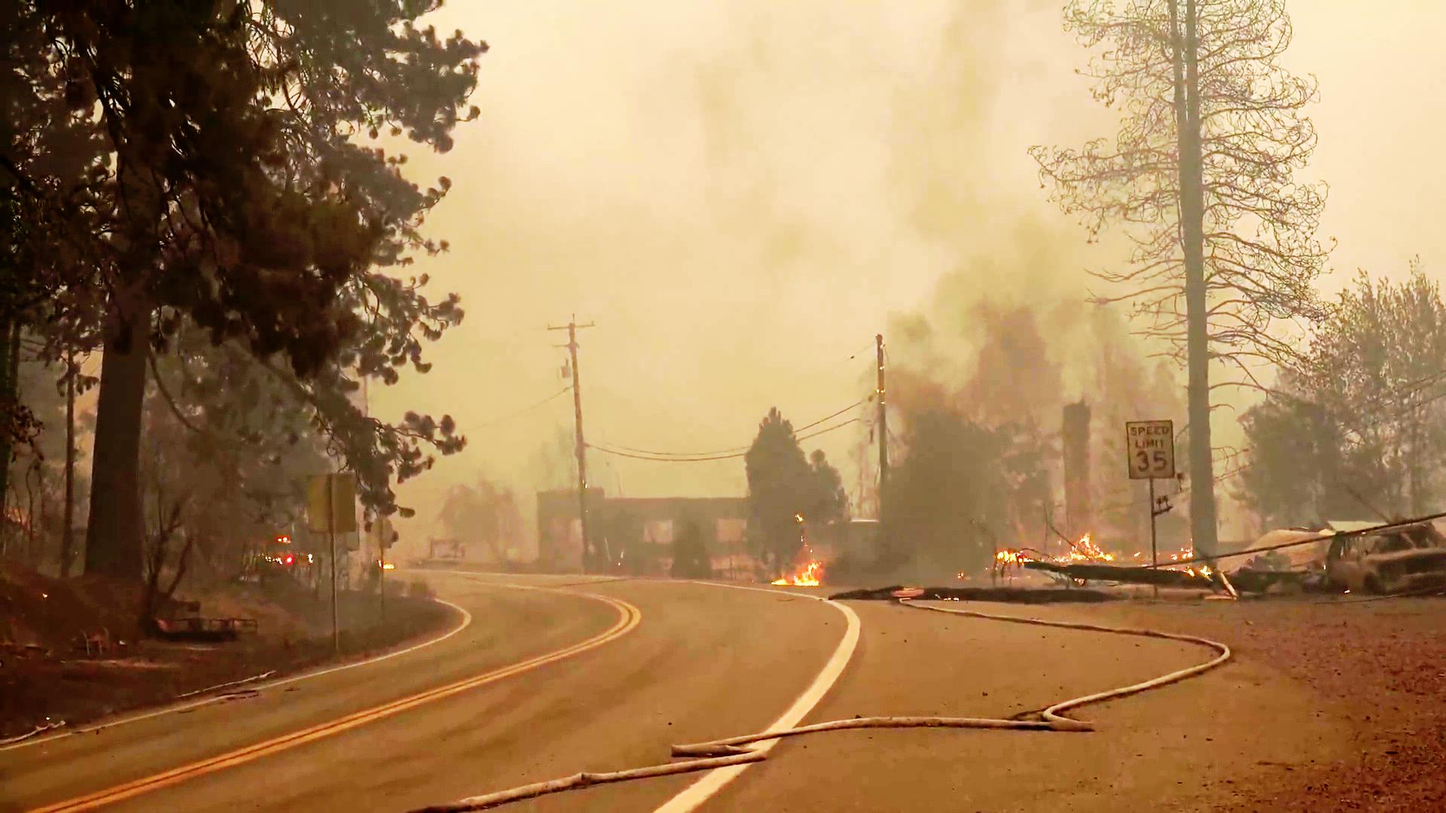smoke: (846, 45, 1111, 371), (606, 102, 852, 383)
